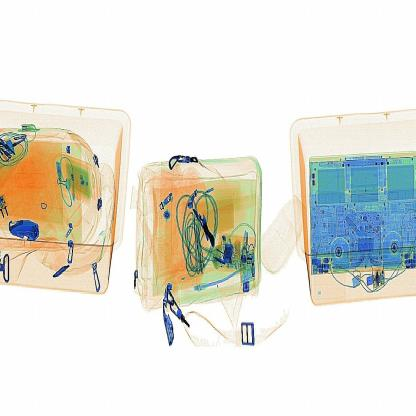wrench: (190, 207, 224, 254)
